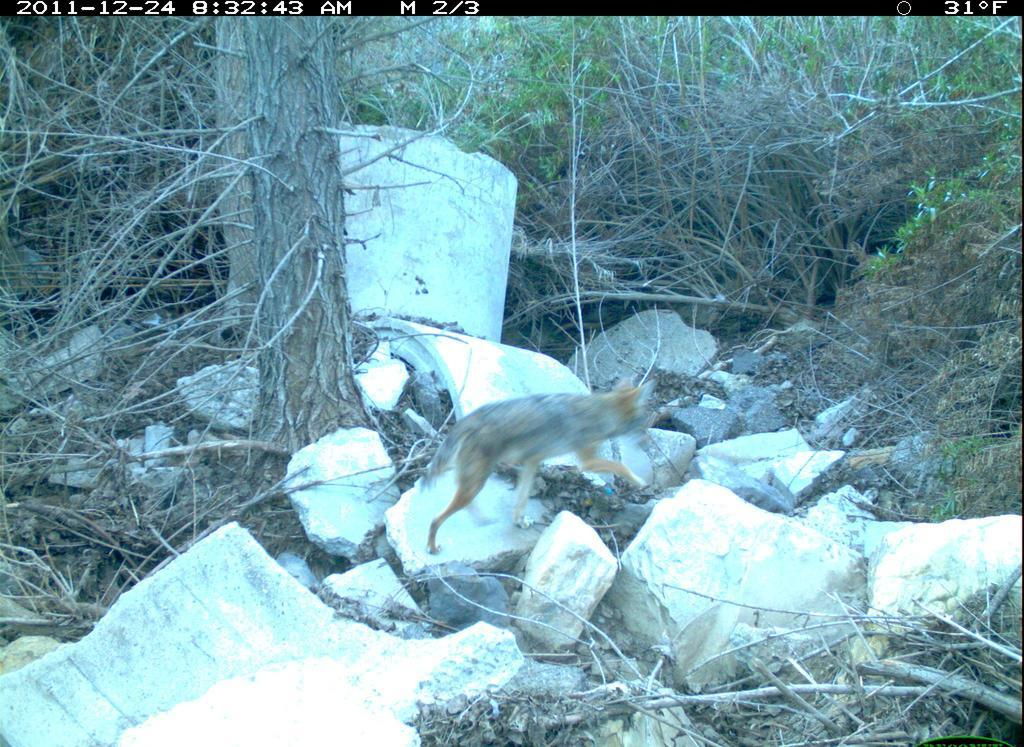coyote: (413, 367, 664, 565)
